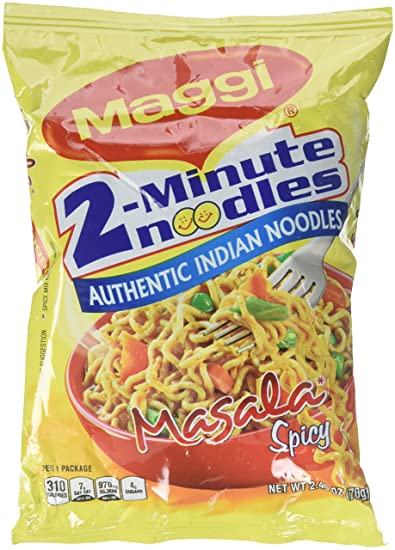maggi: (4, 2, 393, 550)
